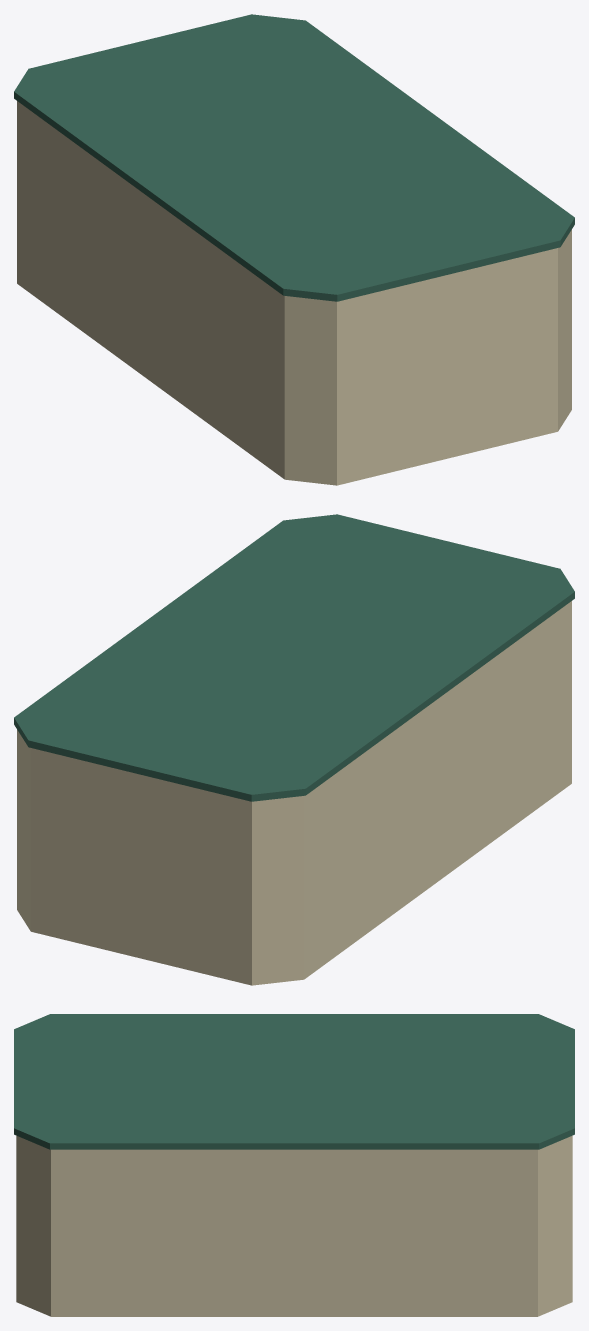
The model's file is vls8_body.obj.
3 views of the same model, one above another, from view 1: azimuth 30°, elevation 25°; view 2: azimuth 150°, elevation 25°; view 3: azimuth 270°, elevation 25° (orthographic). The views are drawn at different scales.
Parts seen in each view (by area): view 1: vls8_body; view 2: vls8_body; view 3: vls8_body.
Boxes of the visible parts, left/top/right/bottom form: vls8_body: left=14, top=14, right=574, bottom=485; vls8_body: left=14, top=514, right=574, bottom=985; vls8_body: left=14, top=1014, right=574, bottom=1316.
Bounding box in the file's own units: 2.64 × 1.66 × 4.84.
